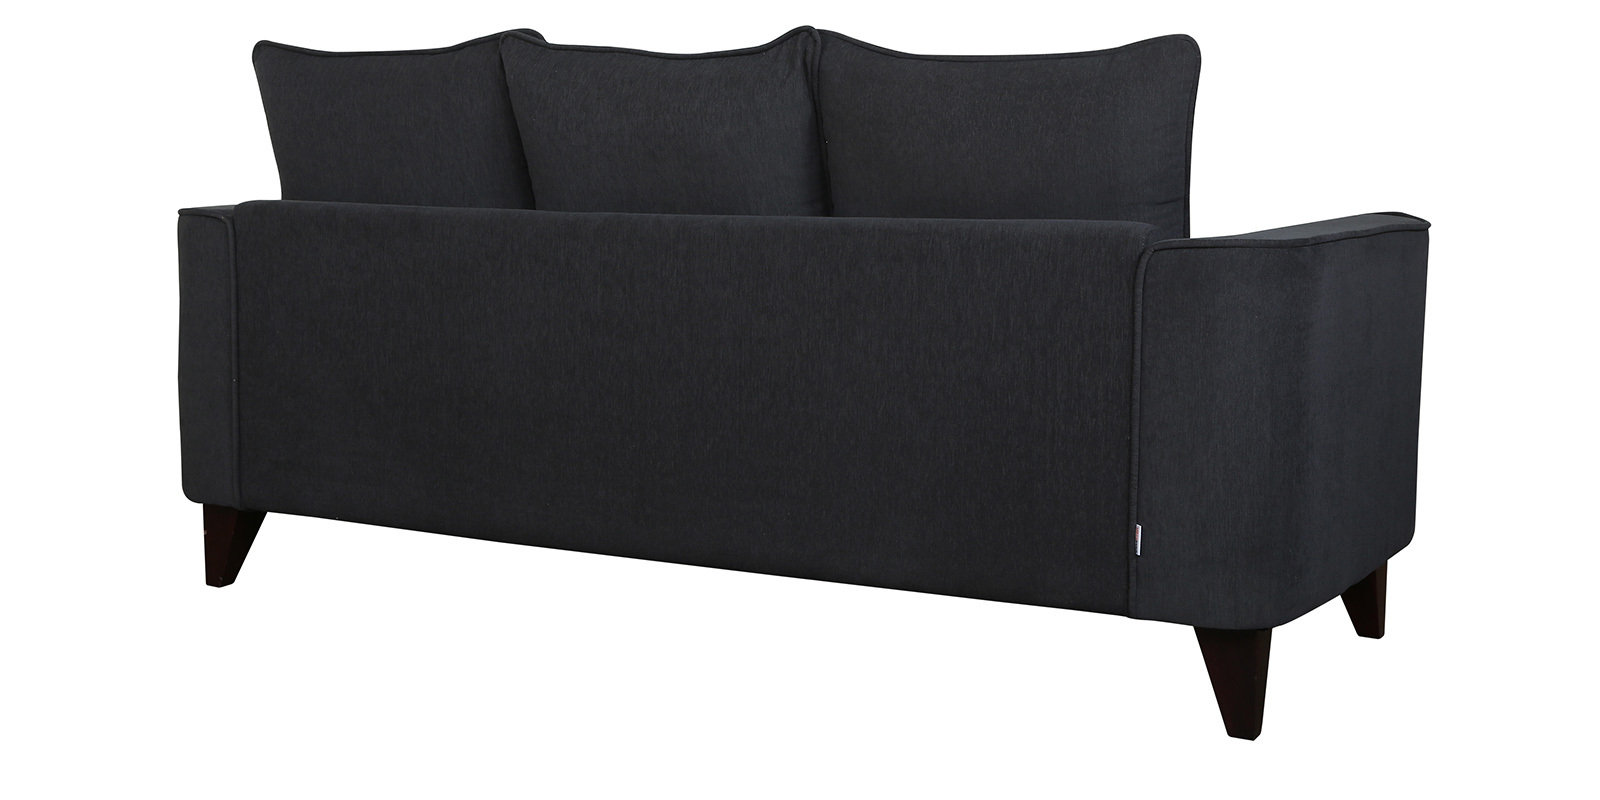Lara Three Seater Sofa in Charcoal Grey Colour by CasaCraft: (179, 24, 1431, 742)
